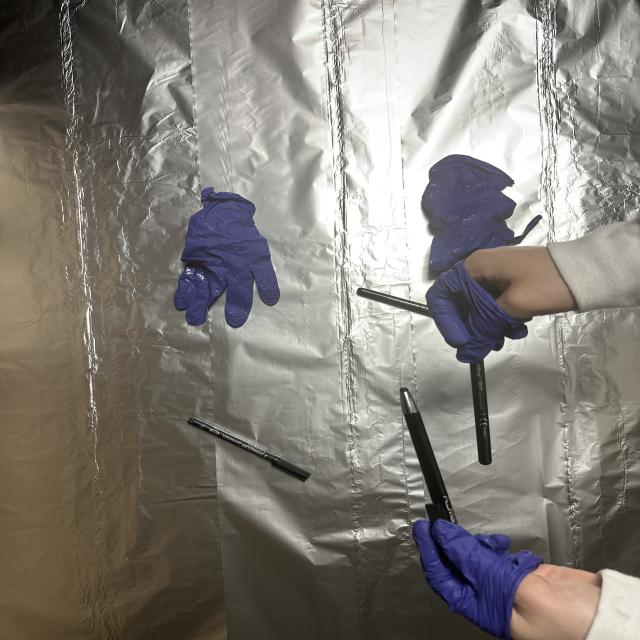glove_partial: (413, 512, 607, 640), (424, 242, 579, 364)
